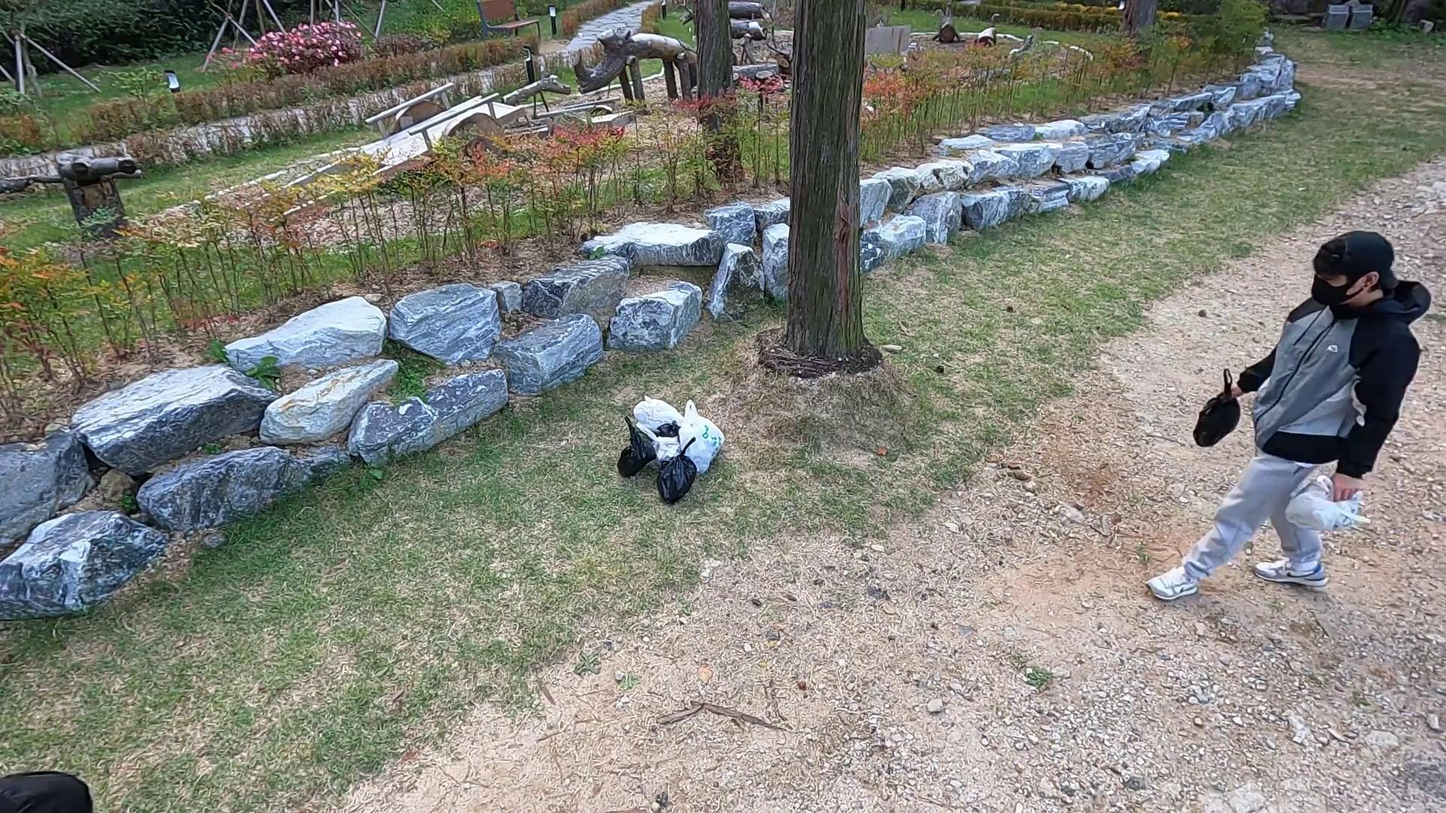person: (1148, 228, 1432, 607)
trash: (1284, 475, 1370, 533), (1192, 367, 1241, 448), (680, 402, 726, 472), (616, 417, 657, 480), (634, 393, 685, 433), (658, 454, 699, 503), (658, 436, 681, 462), (658, 418, 679, 438)
